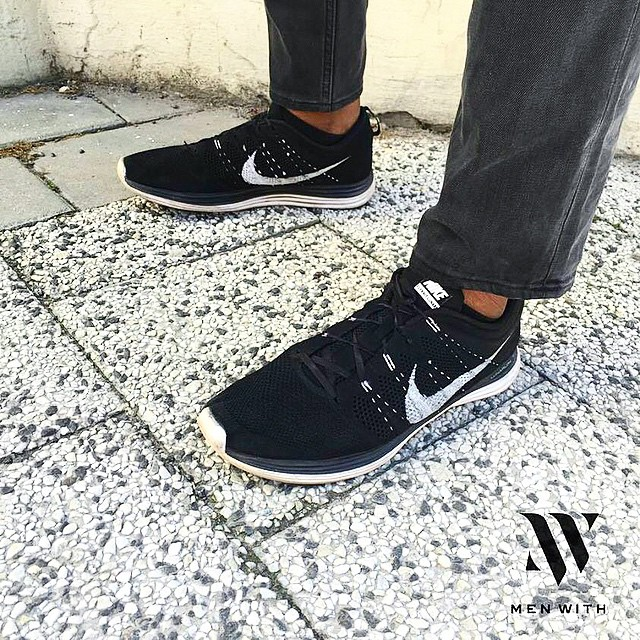sneaker: (175, 231, 540, 514), (105, 72, 398, 233)
